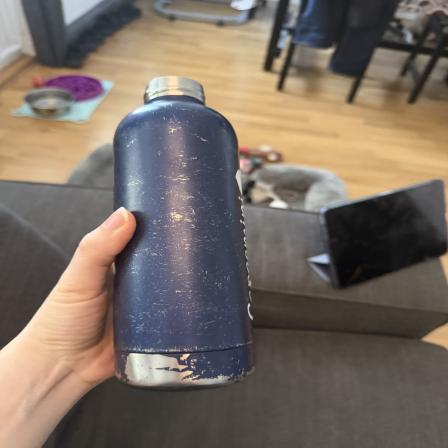blue_bottle: (106, 68, 257, 389)
